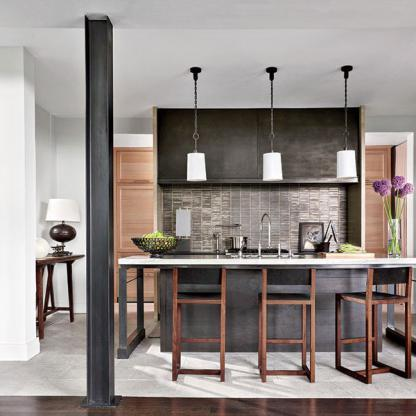chair: (334, 267, 416, 384), (165, 265, 232, 386), (259, 265, 316, 383)
door: (113, 144, 156, 302), (365, 145, 394, 252)
light: (177, 54, 224, 189), (254, 64, 292, 187), (334, 59, 361, 185), (39, 193, 88, 254), (32, 239, 49, 262)
table: (117, 249, 416, 357), (36, 249, 82, 339)
